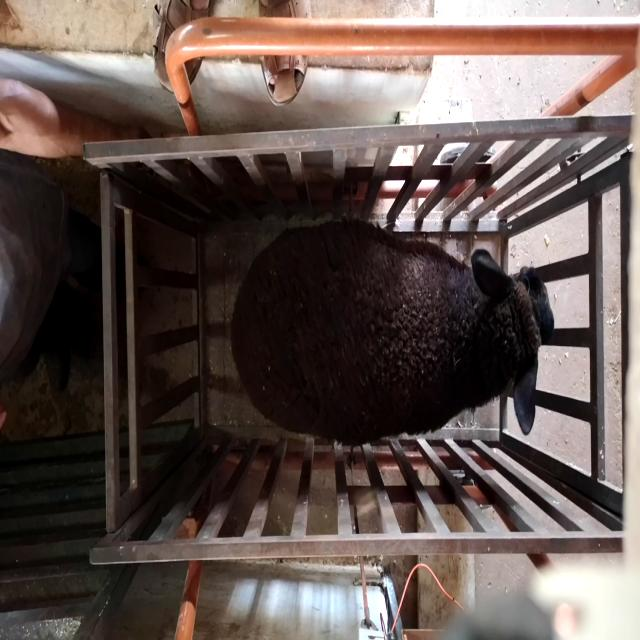sheep: (229, 219, 554, 446)
